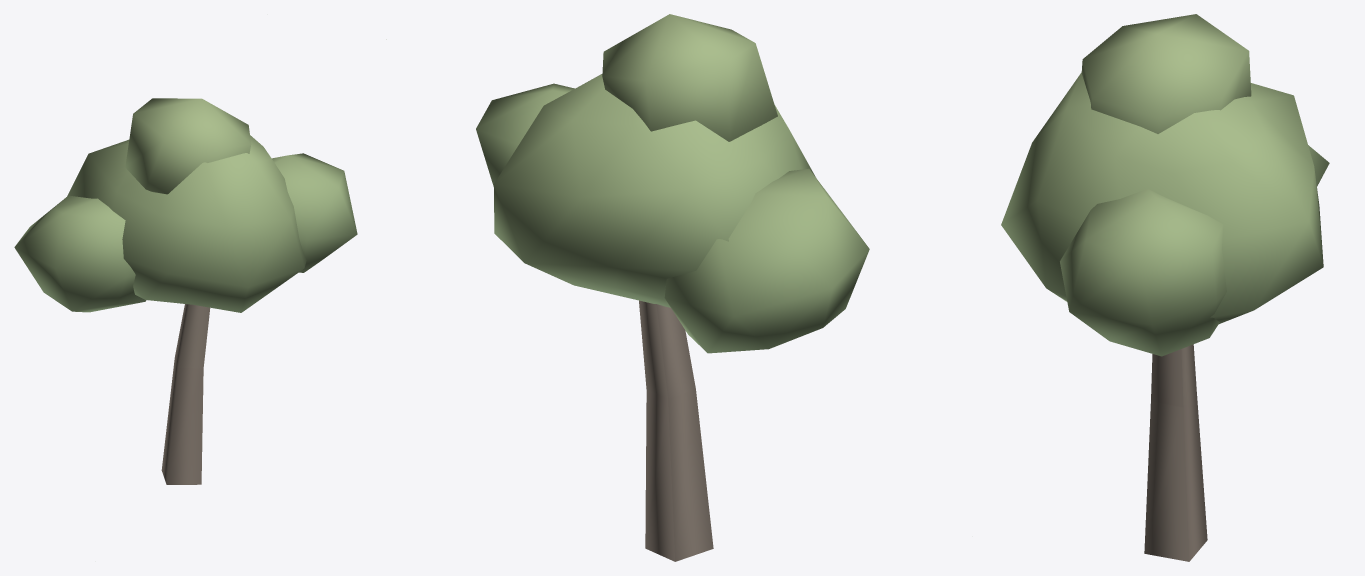
Rendered from FarLeafy2_leaf.glb.
The picture shows the model from 3 angles, left to right: view 1: azimuth 30°, elevation 25°; view 2: azimuth 150°, elevation 25°; view 3: azimuth 270°, elevation 25°; orthographic projection. The views are drawn at different scales.
Parts seen in each view (by area): view 1: FarLeafy2_leaf; view 2: FarLeafy2_leaf; view 3: FarLeafy2_leaf.
Part boxes in pixels (left/top/right/bottom): FarLeafy2_leaf: left=14, top=98, right=357, bottom=484; FarLeafy2_leaf: left=386, top=14, right=869, bottom=561; FarLeafy2_leaf: left=1001, top=14, right=1329, bottom=561.
Size of the model in its own units: 11.04 by 13.46 by 8.15.
